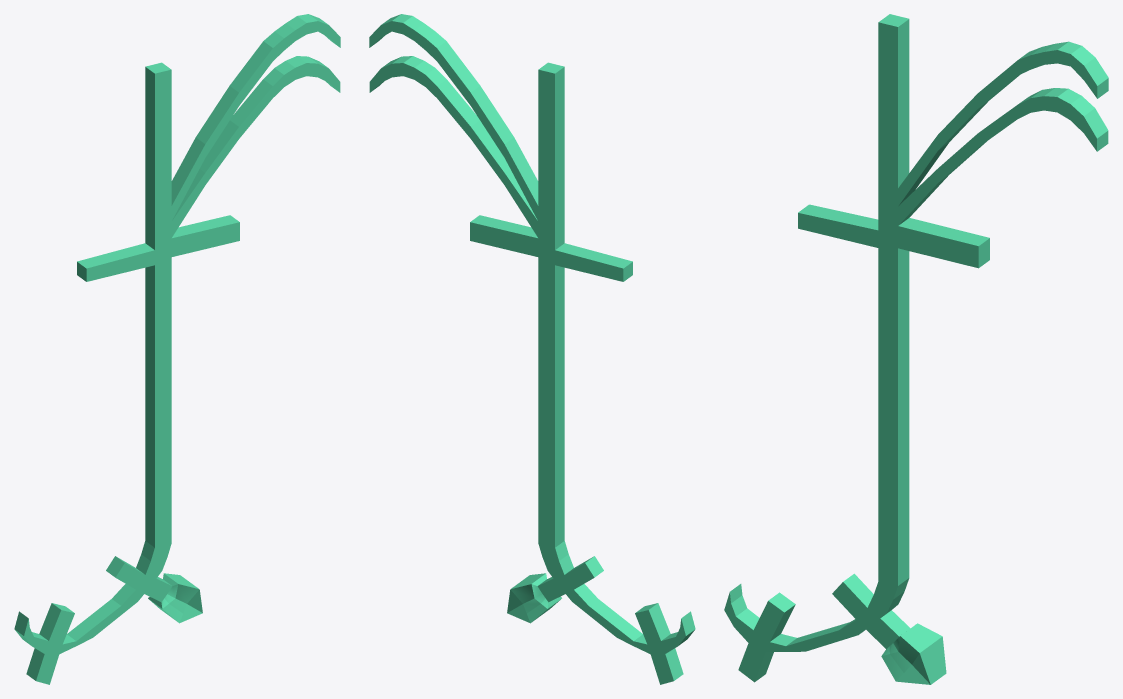
File: draumstafur.glb
3 views of the same model, side by side, from view 1: azimuth 30°, elevation 25°; view 2: azimuth 150°, elevation 25°; view 3: azimuth 330°, elevation 25° (orthographic). The views are drawn at different scales.
Parts seen in each view (by area): view 1: draumstafur; view 2: draumstafur; view 3: draumstafur.
Part boxes in pixels (x1,y1,x2,y2): draumstafur: [14, 14, 340, 684]; draumstafur: [369, 14, 695, 684]; draumstafur: [724, 14, 1108, 684].
Size of the model in its own units: 12.52 by 22.64 by 1.34.
